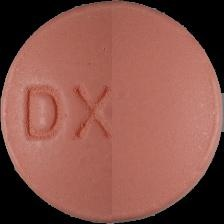0591-0676: (0, 0, 224, 224)
